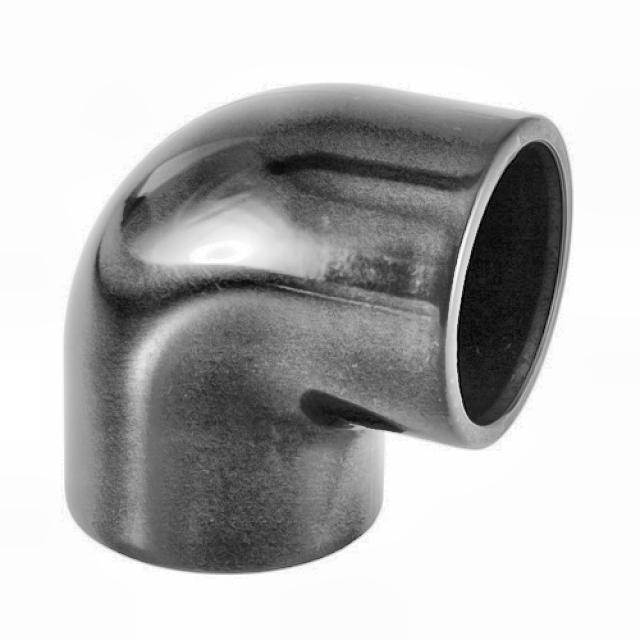ELBOW90: (61, 82, 577, 577)
